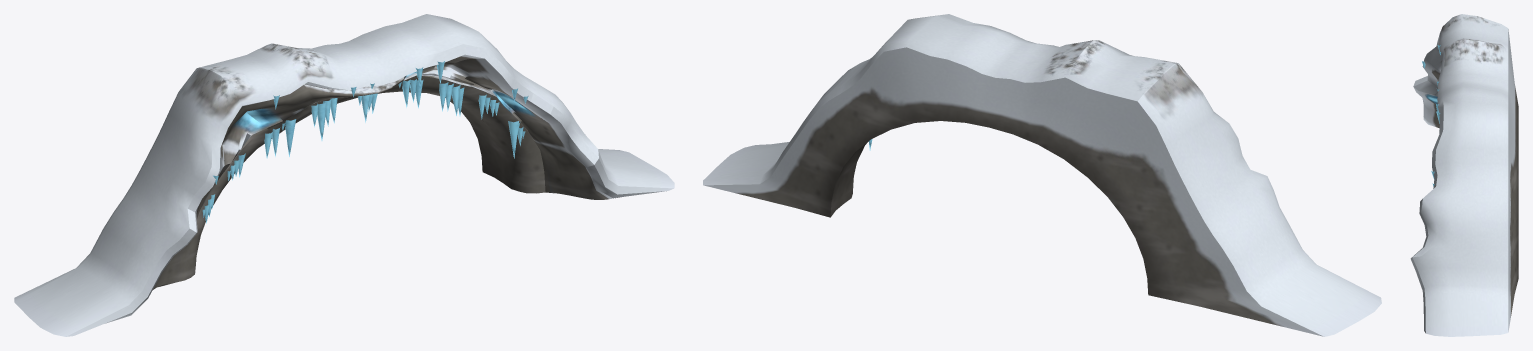
File: SM_IceCave_Exit.glb
3 views of the same model, side by side, from view 1: azimuth 30°, elevation 25°; view 2: azimuth 150°, elevation 25°; view 3: azimuth 270°, elevation 25° (orthographic). The views are drawn at different scales.
Visible parts, largest first — view 1: SM_IceCave_Exit; view 2: SM_IceCave_Exit; view 3: SM_IceCave_Exit.
Part boxes in pixels (x1,y1,x2,y2): SM_IceCave_Exit: (14, 14, 674, 336); SM_IceCave_Exit: (703, 14, 1381, 336); SM_IceCave_Exit: (1410, 14, 1518, 336).
Size of the model in its own units: 32.44 by 10.18 by 6.21.
Materials: 1 (1 with a texture image).
